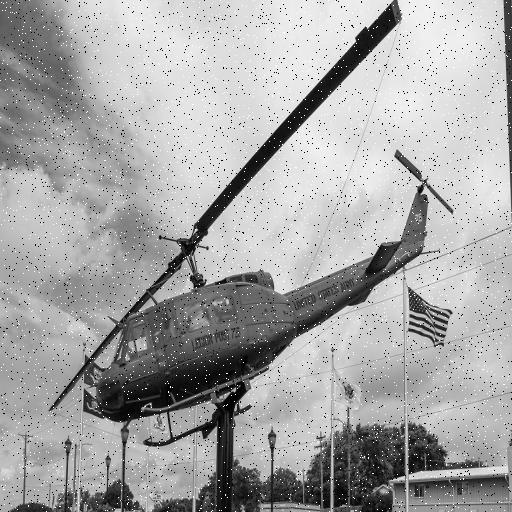helicopter: (84, 1, 458, 449)
